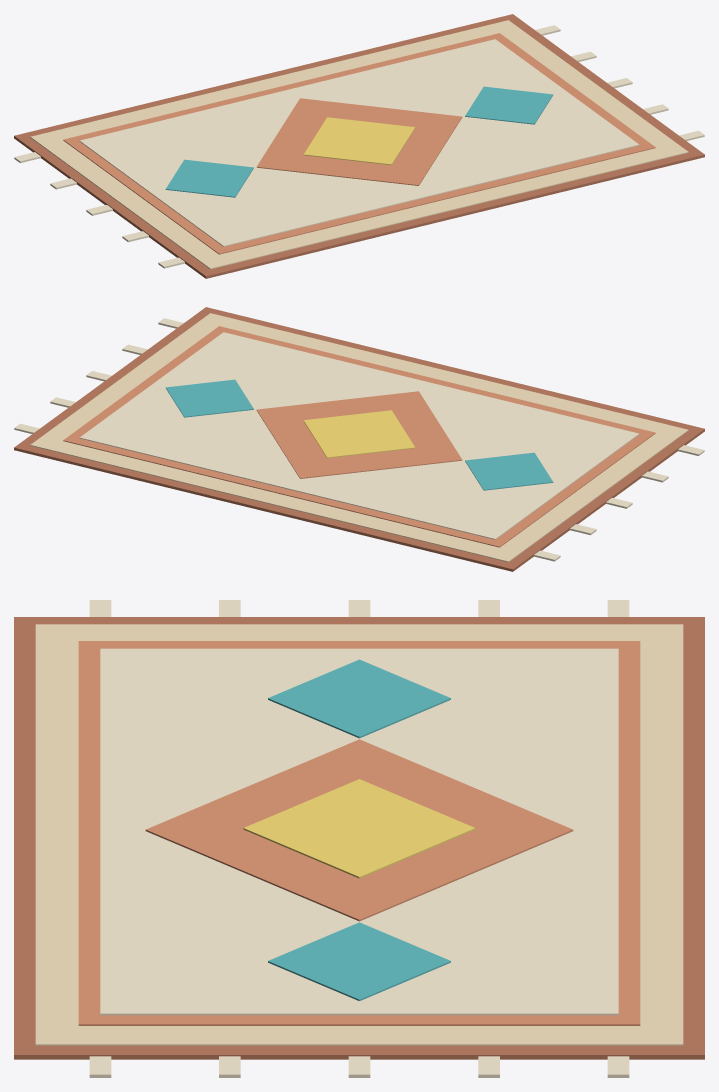
Rendered from prop_rug_01.glb.
The picture shows the model from 3 angles, top to bottom: view 1: azimuth 30°, elevation 25°; view 2: azimuth 150°, elevation 25°; view 3: azimuth 270°, elevation 25°; orthographic projection. The views are drawn at different scales.
Parts seen in each view (by area): view 1: prop_rug_01_body; view 2: prop_rug_01_body; view 3: prop_rug_01_body.
Boxes of the visible parts, <box> form: prop_rug_01_body: <box>14,14,704,278</box>; prop_rug_01_body: <box>14,307,704,571</box>; prop_rug_01_body: <box>14,600,704,1077</box>.
Size of the model in its own units: 2.6 by 0.032 by 1.6.
